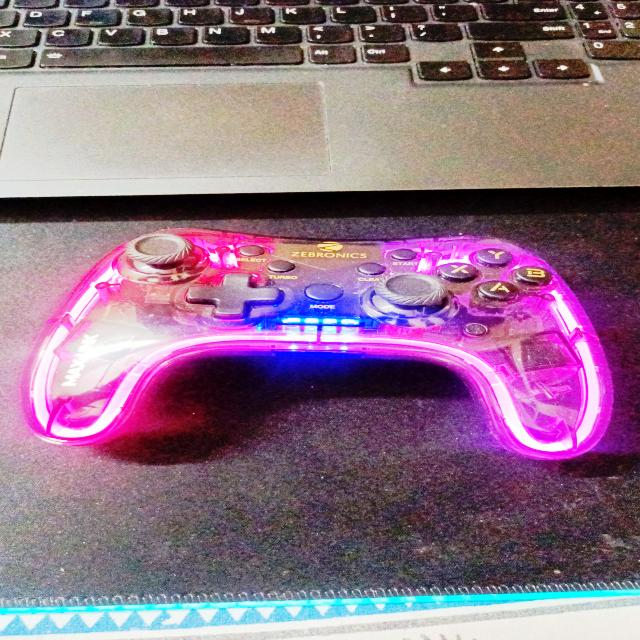gamepad: (18, 227, 615, 460)
